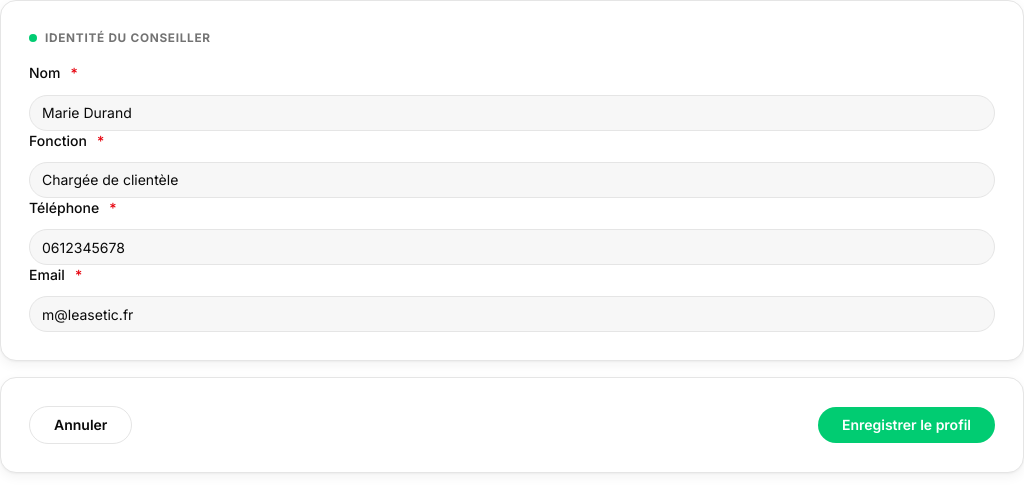
Test: AdvisorForm (PROF-03 / D-07 / D-08 / D-09) › Test 7: clicking Annuler after edits restores the initial values and does not navigate
Replace the text in the field labelled "Nom *" with "Someone Else" at {"x": 512, "y": 112}, box [29, 94, 995, 130]
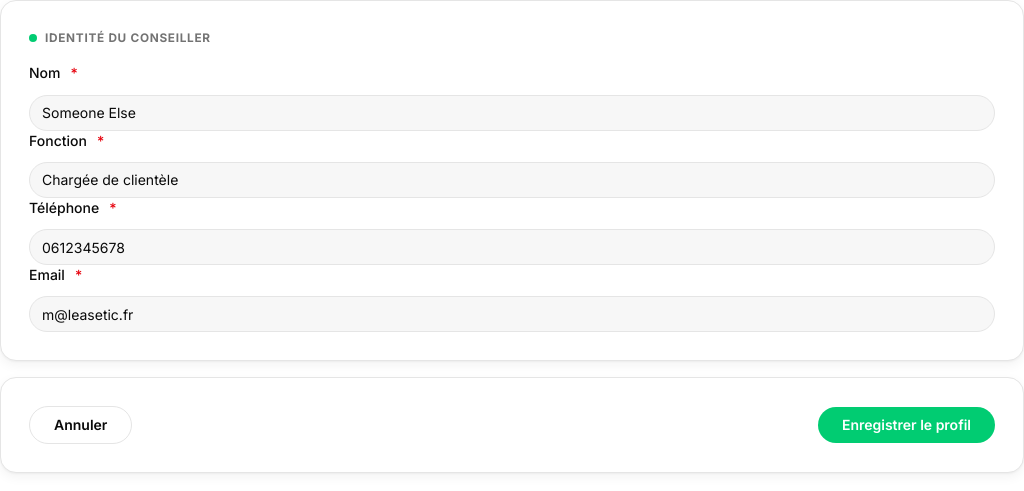
Click the button "Annuler" at {"x": 81, "y": 425}, box [29, 406, 132, 444]
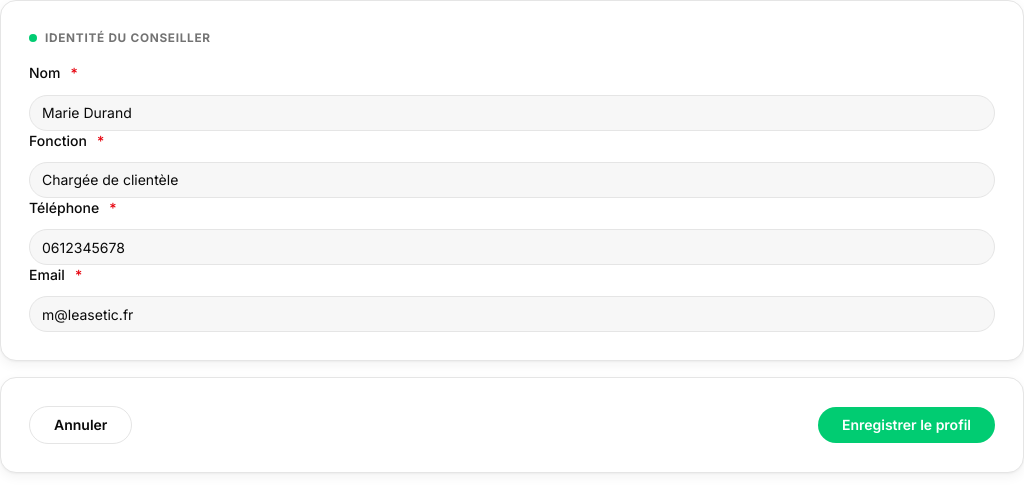
Expected: the field labelled "Fonction *" holds "Chargée de clientèle", [29, 162, 995, 198]
Result: the field labelled "Nom *" holds "Marie Durand" at [29, 94, 995, 130]
